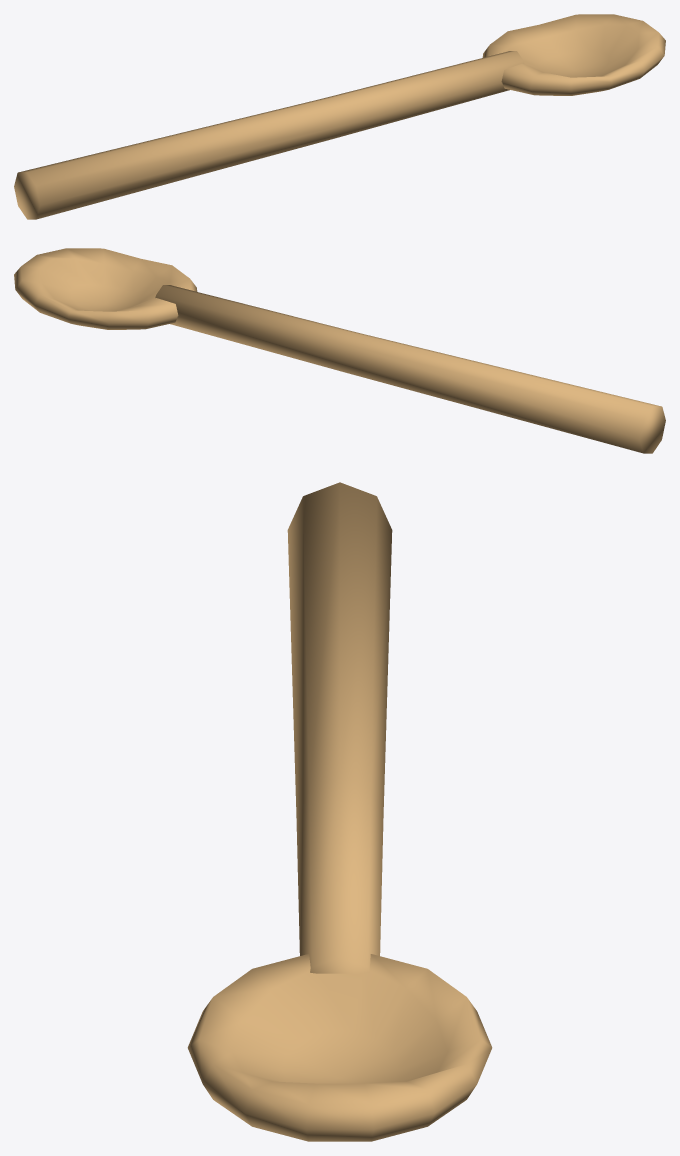
File: colher-de-pau.glb
The picture shows the model from 3 angles, top to bottom: view 1: azimuth 30°, elevation 25°; view 2: azimuth 150°, elevation 25°; view 3: azimuth 270°, elevation 25°; orthographic projection. The views are drawn at different scales.
Parts seen in each view (by area): view 1: colher-de-pau; view 2: colher-de-pau; view 3: colher-de-pau.
Part boxes in pixels (left/top/right/bottom): colher-de-pau: left=14, top=14, right=665, bottom=219; colher-de-pau: left=14, top=248, right=665, bottom=453; colher-de-pau: left=187, top=482, right=492, bottom=1141.
Bounding box in the file's own units: 0.3345 × 0.025 × 0.07.
